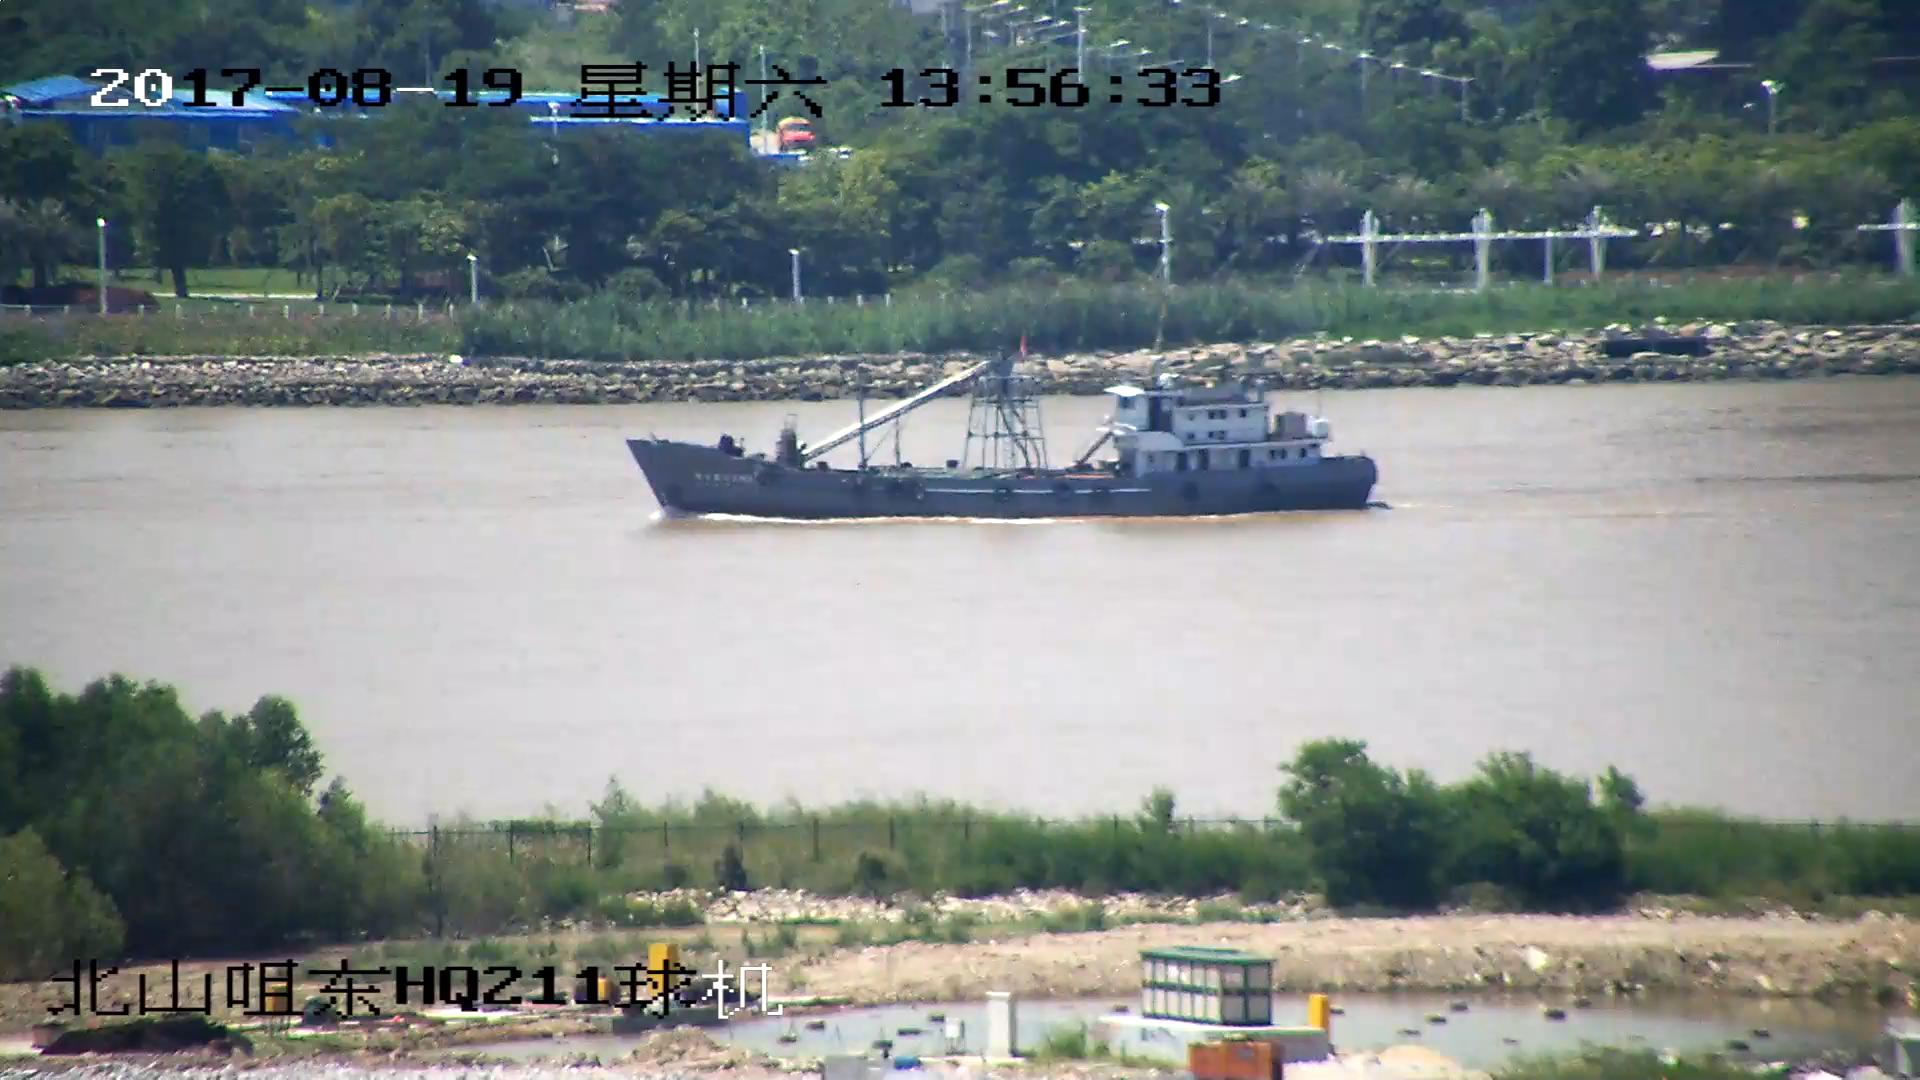fishing boat: (631, 362, 1379, 518)
